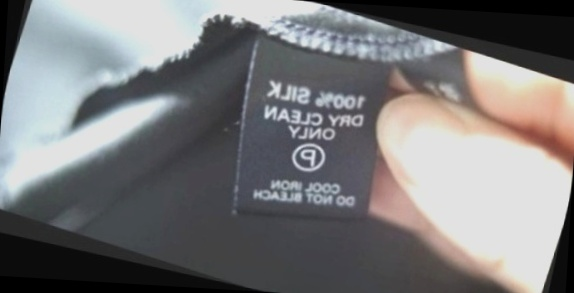dry_clean_any_solvent_except_trichloroethylene: (283, 133, 333, 180)
